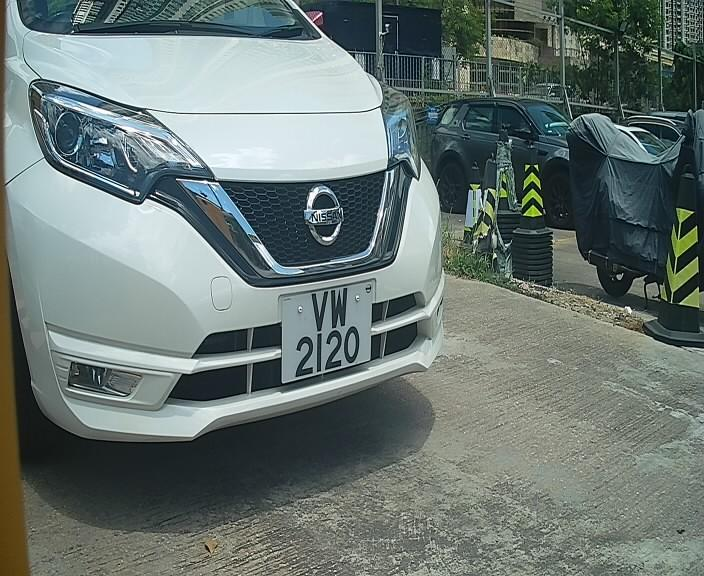License Plate: (277, 273, 381, 389)
